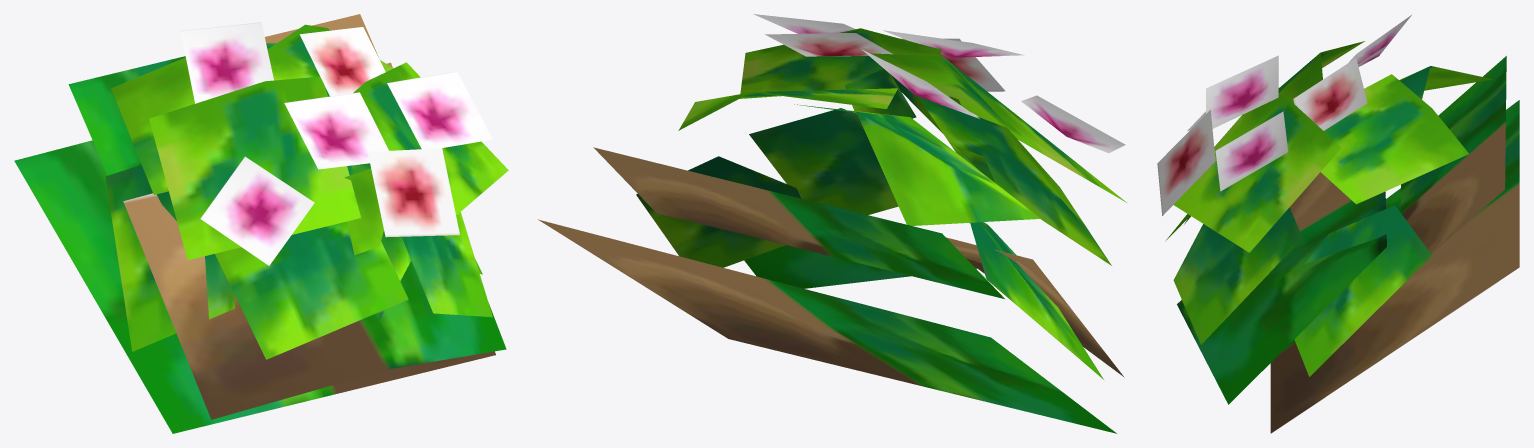
The model's file is fg_bushB_2_wt.dae.
3 renders of one model, left to right at view 1: azimuth 30°, elevation 25°; view 2: azimuth 150°, elevation 25°; view 3: azimuth 270°, elevation 25°, orthographic. The views are drawn at different scales.
Parts seen in each view (by area): view 1: fg_bushB_2_wt; view 2: fg_bushB_2_wt; view 3: fg_bushB_2_wt.
Part boxes in pixels (x1=…): fg_bushB_2_wt: x1=14, y1=14, x2=508, y2=433; fg_bushB_2_wt: x1=538, y1=14, x2=1126, y2=433; fg_bushB_2_wt: x1=1157, y1=15, x2=1519, y2=433.
Bounding box in the file's own units: 43.24 × 36.09 × 38.13.
1 material, 1 textured.
